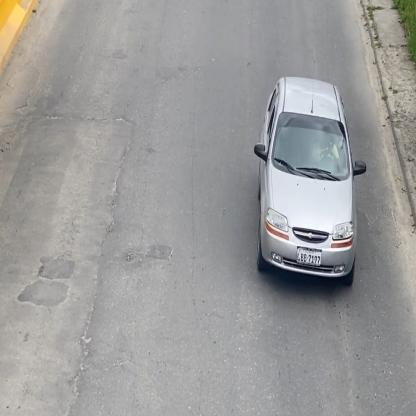Placa: (297, 246, 321, 267)
